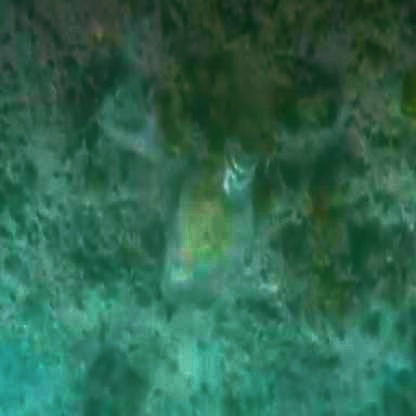pbottle: (153, 116, 323, 393)
